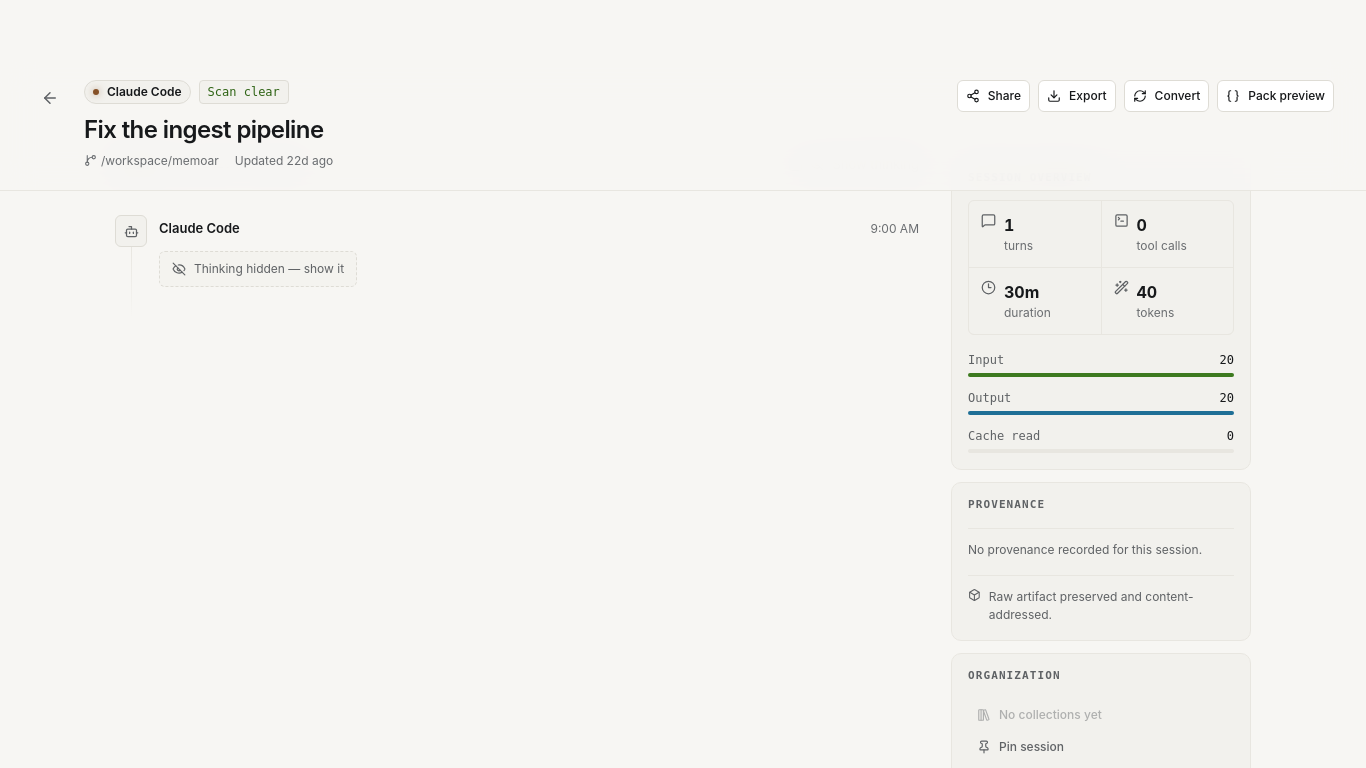
a session action that fails › says so inside the share dialog, which covers the page
The image size is (1366, 768).
Click the button "Share" at (993, 96), box [957,80,1030,112]
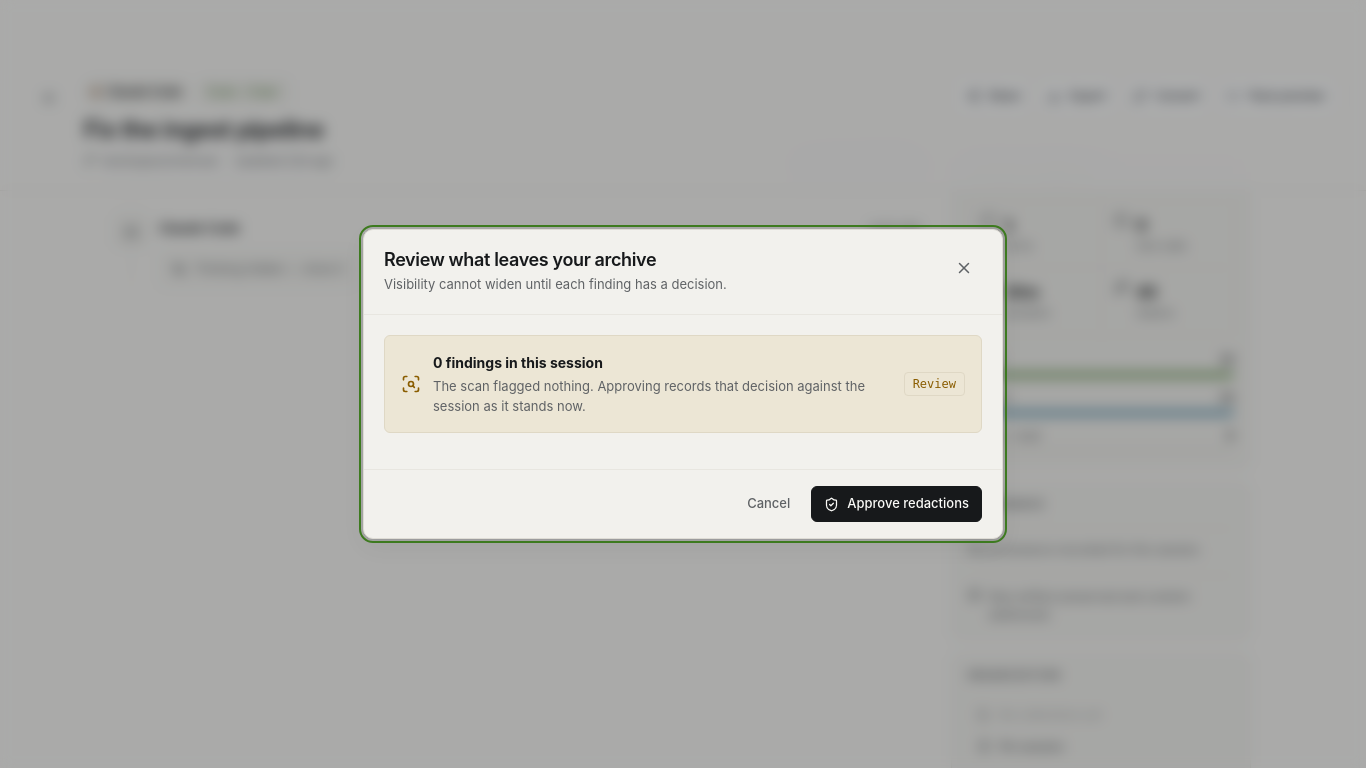
Click the button "Approve redactions" at (897, 504), box [811,486,982,522]
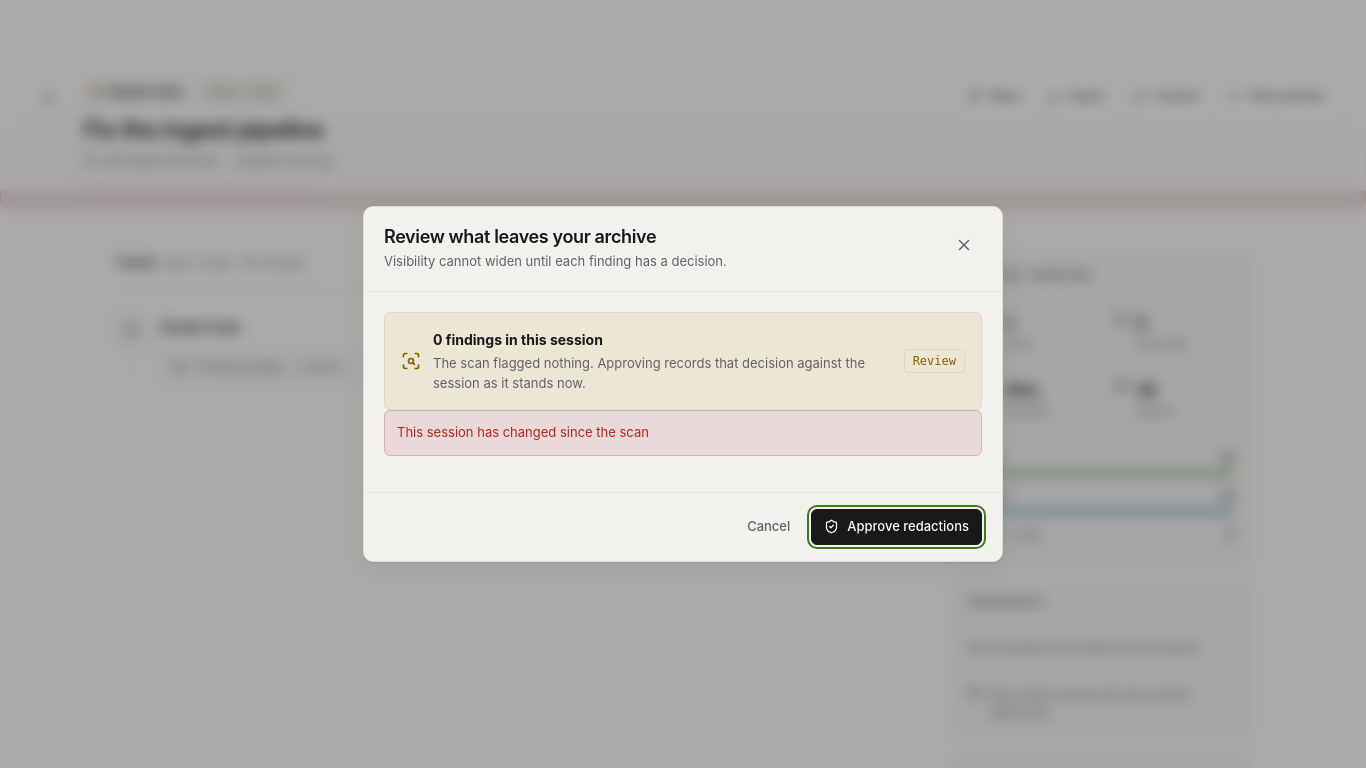
expect the dialog shows "This session has changed since the scan": met, box [397,424,649,440]
